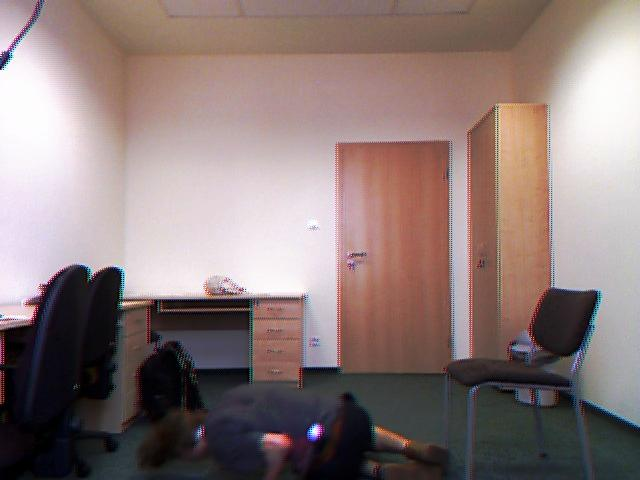fall: (138, 388, 460, 480)
